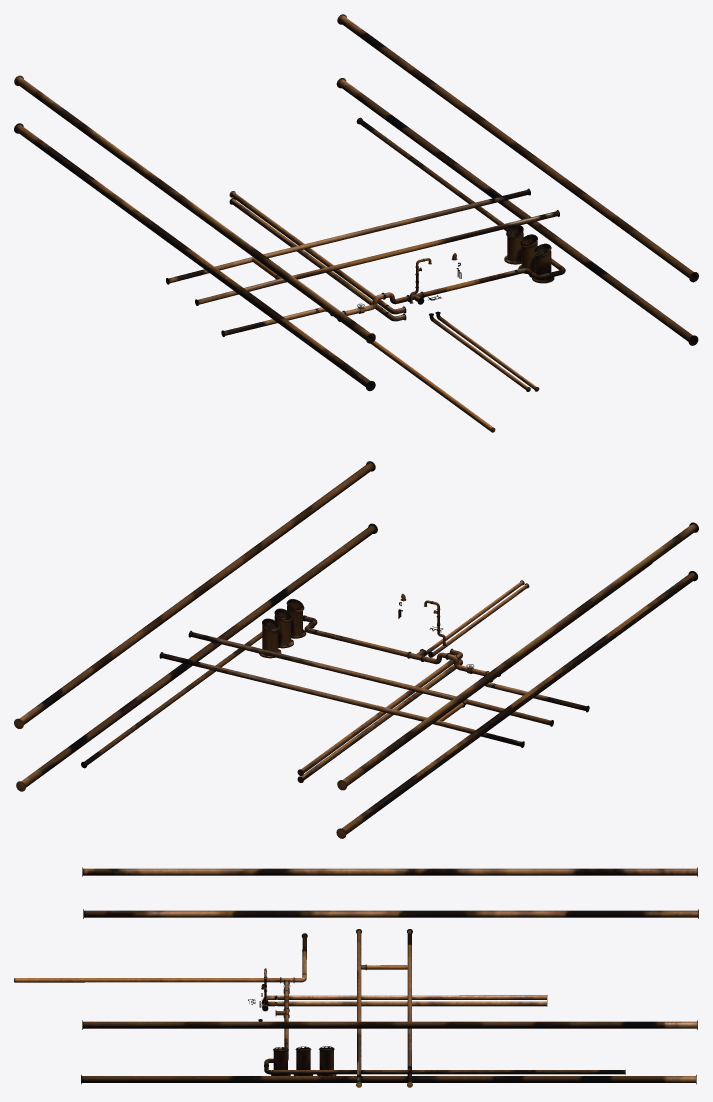
Rendered from pipes.glb.
3 views of the same model, one above another, from view 1: azimuth 30°, elevation 25°; view 2: azimuth 150°, elevation 25°; view 3: azimuth 270°, elevation 25° (orthographic). The views are drawn at different scales.
Visible parts, largest first — view 1: pipe.1017, pipe.1042, pipe.1067, pipe.992, pipe.812, pipe.774, pipe.917, pipe.749, pipe.591, pipe.690; view 2: pipe.1067, pipe.1017, pipe.1042, pipe.992, pipe.774, pipe.812, pipe.917, pipe.749, pipe.591, pipe.892; view 3: pipe.1017, pipe.1042, pipe.1067, pipe.992, pipe.917, pipe.591, pipe.749, pipe.690, pipe.774, pipe.812, pipe.728, pipe.850 (+1 smaller).
Part boxes in pixels (x1,y1,x2,y2): pipe.1017: (337,14,698,282); pipe.1042: (14,123,375,391); pipe.1067: (14,75,375,343); pipe.992: (336,78,698,345); pipe.812: (195,210,559,305); pipe.774: (166,188,530,284); pipe.917: (356,117,565,279); pipe.749: (229,191,406,314); pipe.591: (229,198,406,321); pipe.690: (337,319,495,432); pipe.1067: (337,522,698,790); pipe.1017: (14,461,375,728); pipe.1042: (336,571,697,838); pipe.992: (16,523,377,791); pipe.774: (159,652,524,747); pipe.812: (188,630,553,726); pipe.917: (81,615,317,768); pipe.749: (297,648,462,775); pipe.591: (297,659,462,782); pipe.892: (304,622,408,657); pipe.1017: (82,1020,697,1029); pipe.1042: (83,909,698,918); pipe.1067: (82,867,697,876); pipe.992: (81,1074,696,1084); pipe.917: (264,1058,625,1074); pipe.591: (262,1001,547,1011); pipe.749: (262,995,547,1004); pipe.690: (14,977,280,982); pipe.774: (407,929,412,1087); pipe.812: (356,929,361,1087); pipe.728: (317,1048,336,1075); pipe.850: (293,1049,313,1075).
Size of the model in its own units: 18.27 by 4.84 by 33.85.
Materials: 3 (2 with a texture image).
